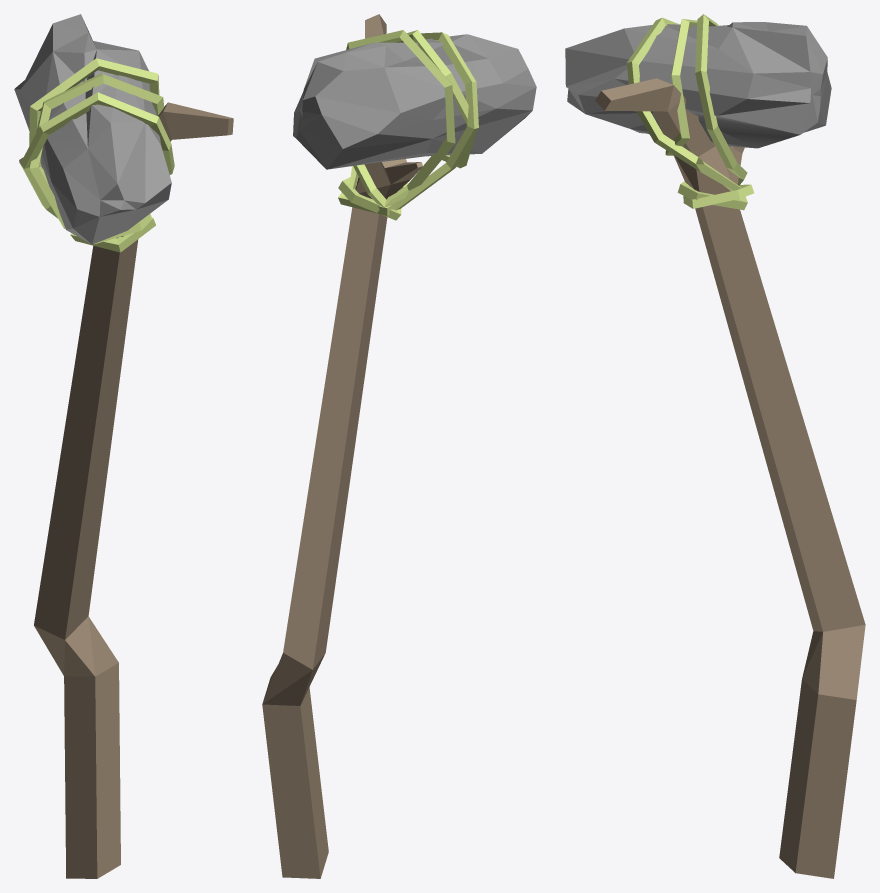
Rendered from hammer.fbx.
3 renders of one model, left to right at view 1: azimuth 30°, elevation 25°; view 2: azimuth 150°, elevation 25°; view 3: azimuth 270°, elevation 25°, orthographic. The views are drawn at different scales.
Visible parts, largest first — view 1: stone; view 2: stone; view 3: stone.
Part boxes in pixels (x1,y1,x2,y2): stone: (14,14,233,878); stone: (262,14,536,878); stone: (565,14,865,878).
Size of the model in its own units: 13.98 by 68.4 by 22.26.
